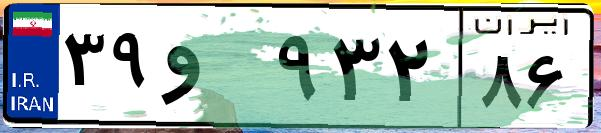2: (385, 28, 445, 110)
3: (330, 28, 385, 110), (57, 26, 110, 100)
6: (525, 38, 570, 115)
8: (475, 38, 525, 113)
9: (270, 28, 330, 110), (110, 28, 158, 98)
و: (158, 20, 270, 120)
